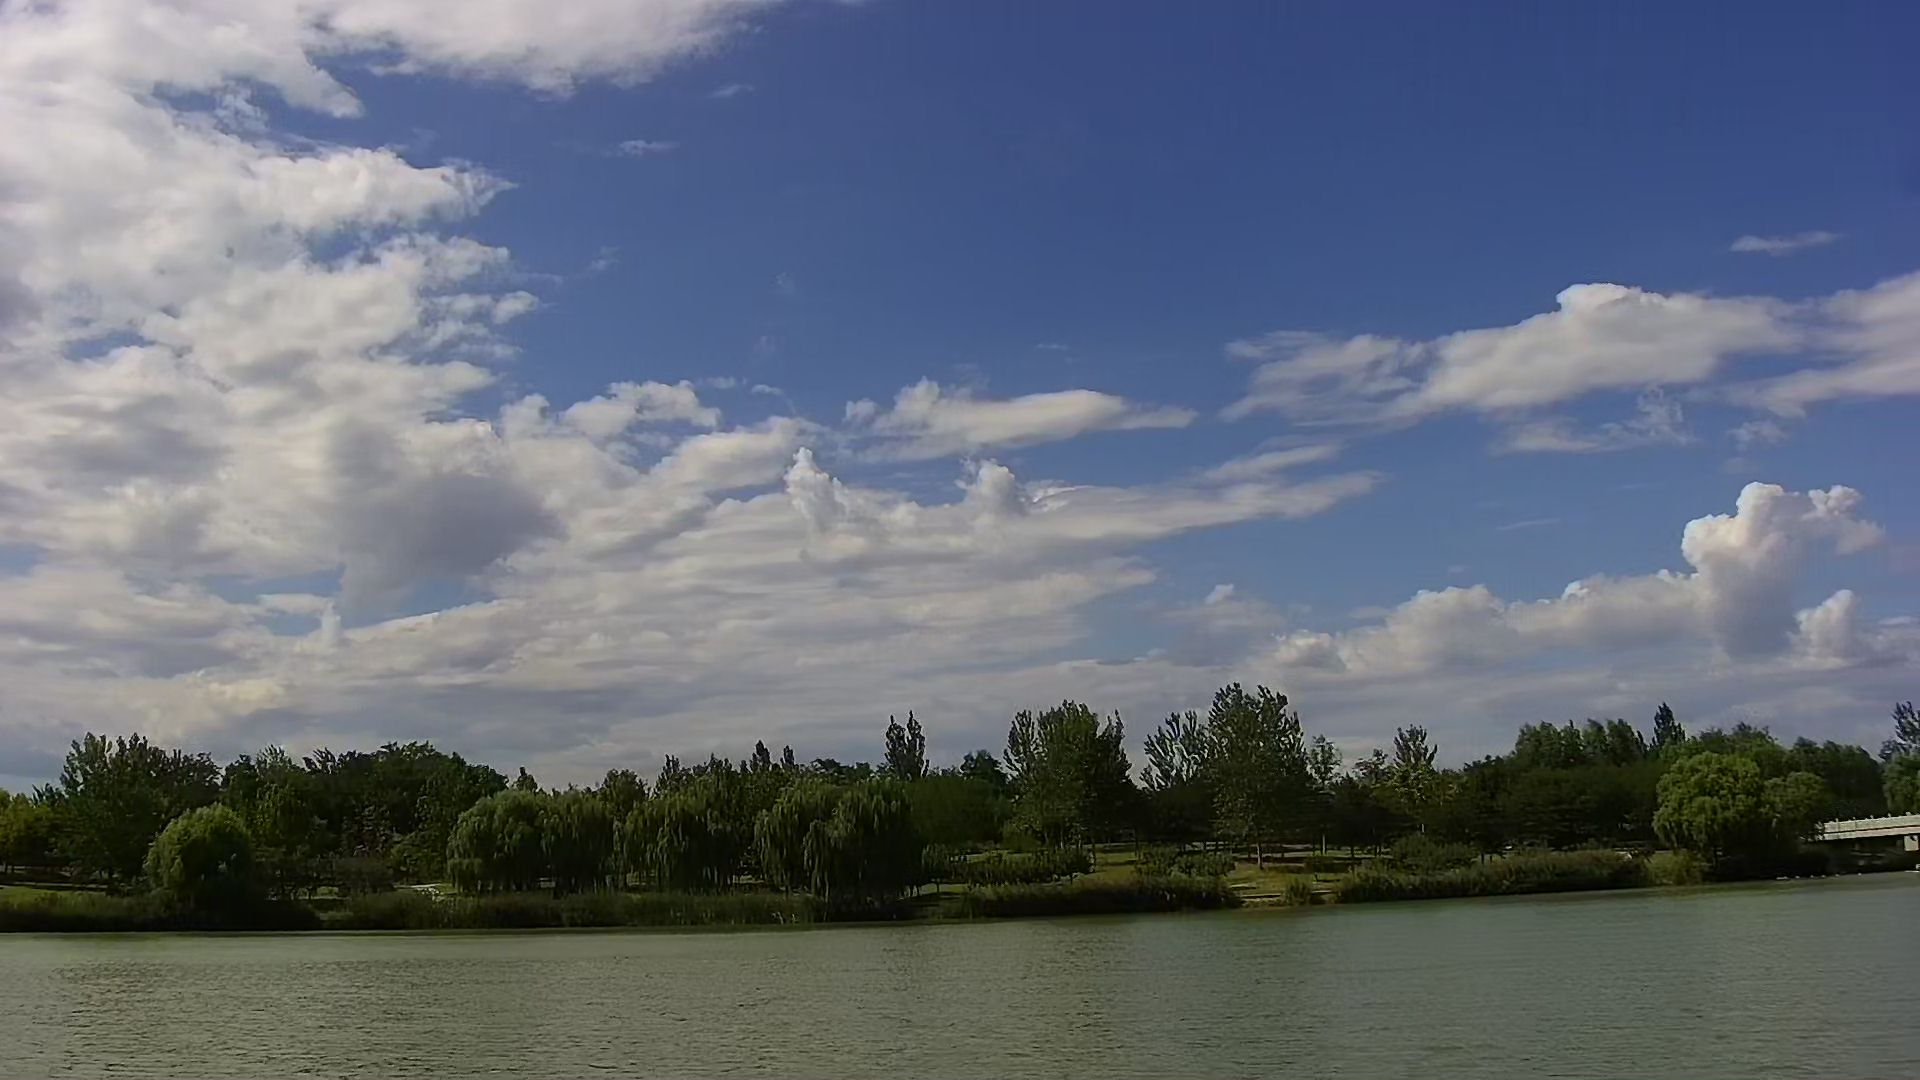bridge: (1824, 814, 1920, 873)
